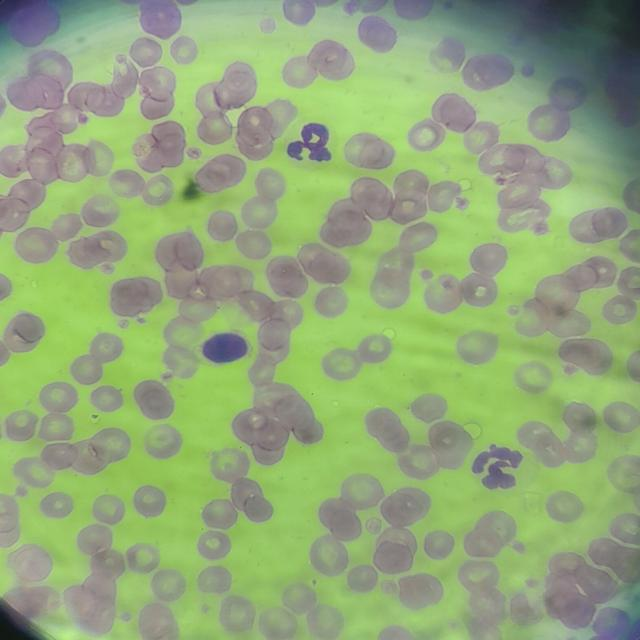Neutrofilo: (464, 435, 529, 510), (282, 110, 338, 173)
